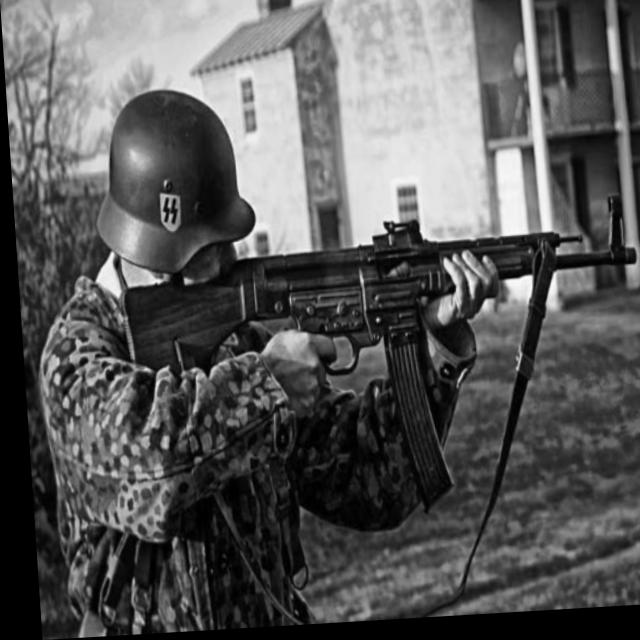other: (39, 92, 296, 638)
